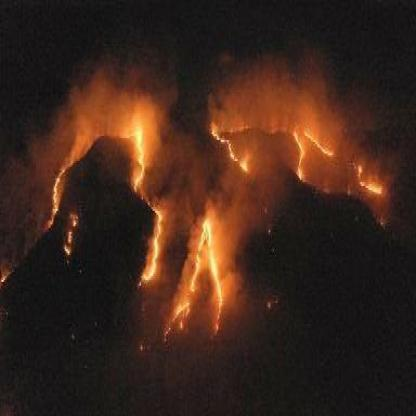fire: (40, 124, 167, 282), (207, 101, 384, 206), (176, 213, 224, 336)
